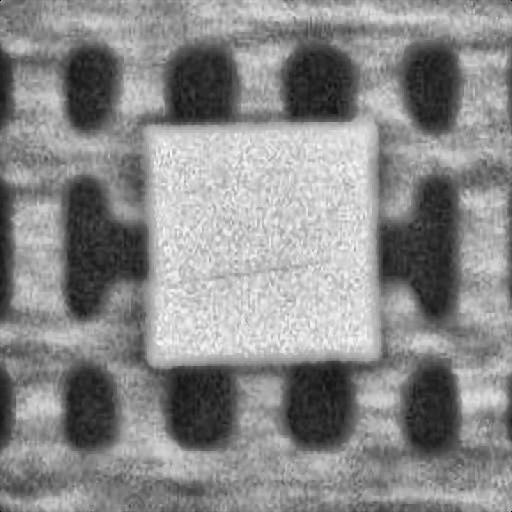DIE_CRACK: (265, 174, 472, 186)
